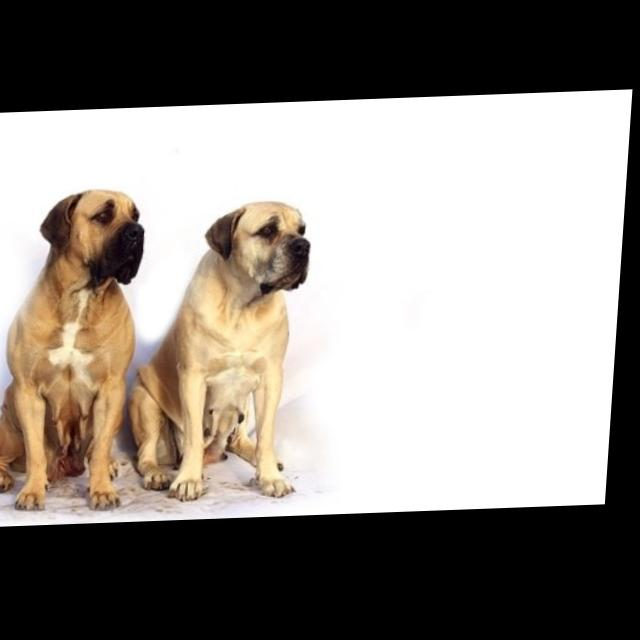mastiff: (128, 200, 319, 506), (1, 187, 152, 514)
